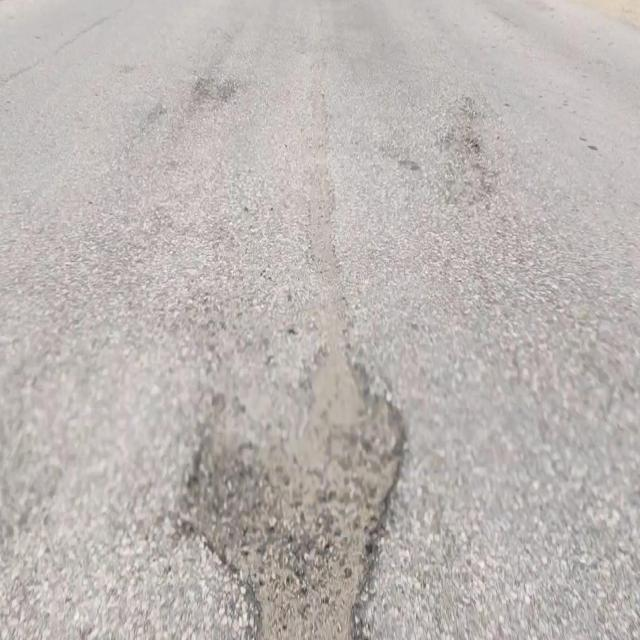Potholes: (171, 327, 409, 640)
